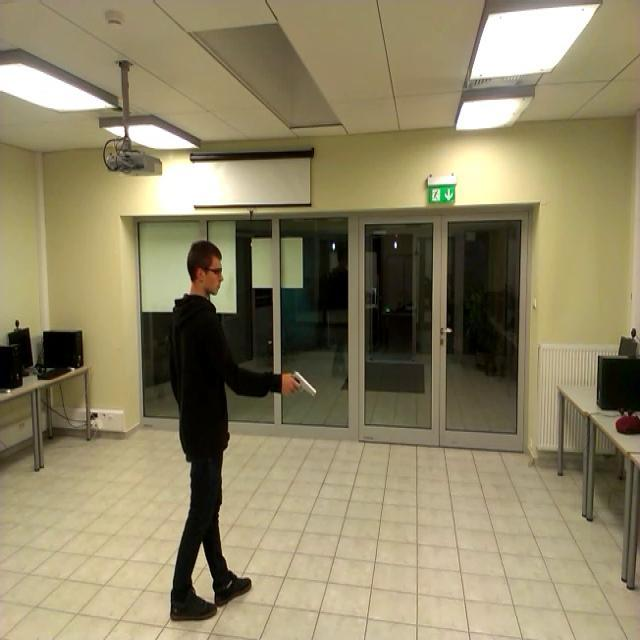Gun: (278, 365, 325, 411)
